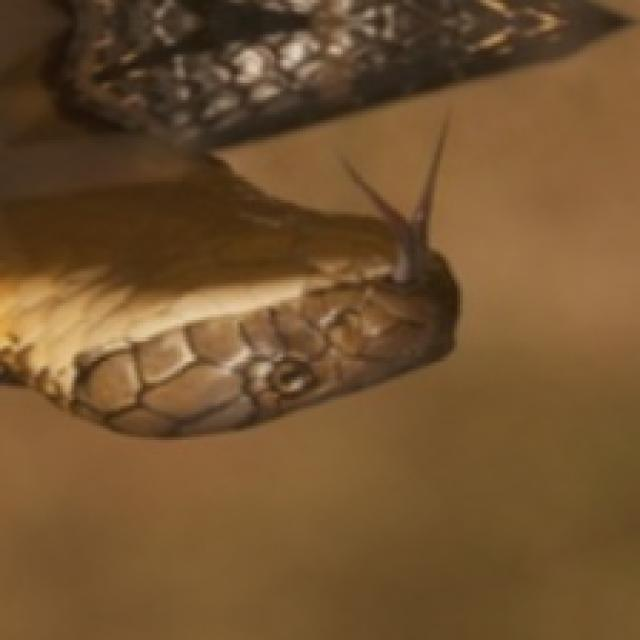king cobra: (0, 120, 457, 434)
